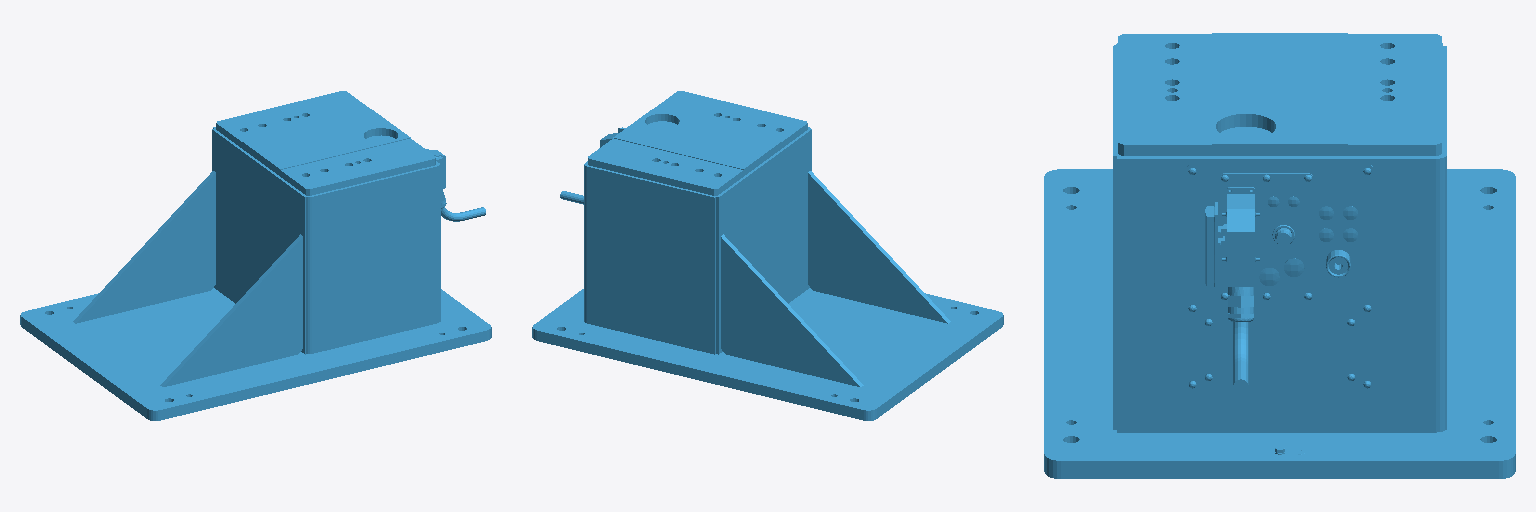
URDF robot description (Irbpa_750_D1000_H700_IRC5_rev02_CAD):
<?xml version="1.0" ?>
<robot name="Irbpa_750_D1000_H700_IRC5_rev02_CAD">

<link name="base_link">
  <inertial>
    <origin xyz="0.8178227923700941 0.046728801444920844 0.8721145690357031" rpy="0 0 0"/>
    <mass value="0.006752990496073456"/>
    <inertia ixx="0.000507" iyy="0.000462" izz="0.000256" ixy="-1.9e-05" iyz="0.000124" ixz="6.3e-05"/>
  </inertial>
  <visual>
    <origin xyz="0 0 0" rpy="0 0 0"/>
    <geometry>
      <mesh filename="meshes/base_link.stl" scale="0.001 0.001 0.001"/>
    </geometry>
  </visual>
  <collision>
    <origin xyz="0 0 0" rpy="0 0 0"/>
    <geometry>
      <mesh filename="meshes/base_link.stl" scale="0.001 0.001 0.001"/>
    </geometry>
  </collision>
</link>

<link name="Irbpa_750_D1000_H700_IRC5_rev02_base750A_CAD_1">
  <inertial>
    <origin xyz="0.1111376986085143 0.15965330927087412 -0.2811561945472616" rpy="0 0 0"/>
    <mass value="931.5476234514706"/>
    <inertia ixx="45.054451" iyy="55.446775" izz="56.062973" ixy="0.106209" iyz="0.034228" ixz="-7.833296"/>
  </inertial>
  <visual>
    <origin xyz="-0.776 0.16 -0.498" rpy="0 0 0"/>
    <geometry>
      <mesh filename="meshes/Irbpa_750_D1000_H700_IRC5_rev02_base750A_CAD_1.stl" scale="0.001 0.001 0.001"/>
    </geometry>
  </visual>
  <collision>
    <origin xyz="-0.776 0.16 -0.498" rpy="0 0 0"/>
    <geometry>
      <mesh filename="meshes/Irbpa_750_D1000_H700_IRC5_rev02_base750A_CAD_1.stl" scale="0.001 0.001 0.001"/>
    </geometry>
  </collision>
</link>

<link name="Irbpa_750_D1000_H700_IRC5_rev02_MTD750_CAD_1">
  <inertial>
    <origin xyz="-0.5359023182928626 -0.0033357651582613694 -0.3630446970410325" rpy="0 0 0"/>
    <mass value="511.1252334711674"/>
    <inertia ixx="22.821939" iyy="53.57062" izz="41.278051" ixy="0.038996" iyz="-0.339125" ixz="-19.039643"/>
  </inertial>
  <visual>
    <origin xyz="-0.722 0.0 -0.9" rpy="0 0 0"/>
    <geometry>
      <mesh filename="meshes/Irbpa_750_D1000_H700_IRC5_rev02_MTD750_CAD_1.stl" scale="0.001 0.001 0.001"/>
    </geometry>
  </visual>
  <collision>
    <origin xyz="-0.722 0.0 -0.9" rpy="0 0 0"/>
    <geometry>
      <mesh filename="meshes/Irbpa_750_D1000_H700_IRC5_rev02_MTD750_CAD_1.stl" scale="0.001 0.001 0.001"/>
    </geometry>
  </collision>
</link>

<link name="Irbpa_750_D1000_H700_IRC5_rev02_platter_d450_CAD_1">
  <inertial>
    <origin xyz="-0.0011124864300729666 -5.688668147784807e-15 0.04336786560053996" rpy="0 0 0"/>
    <mass value="21.25030383337227"/>
    <inertia ixx="0.228504" iyy="0.231342" izz="0.446816" ixy="0.0" iyz="-0.0" ixz="-0.000583"/>
  </inertial>
  <visual>
    <origin xyz="0.0 0.0 -0.638" rpy="0 0 0"/>
    <geometry>
      <mesh filename="meshes/Irbpa_750_D1000_H700_IRC5_rev02_platter_d450_CAD_1.stl" scale="0.001 0.001 0.001"/>
    </geometry>
  </visual>
  <collision>
    <origin xyz="0.0 0.0 -0.638" rpy="0 0 0"/>
    <geometry>
      <mesh filename="meshes/Irbpa_750_D1000_H700_IRC5_rev02_platter_d450_CAD_1.stl" scale="0.001 0.001 0.001"/>
    </geometry>
  </collision>
</link>

<joint name="Rigid_4" type="fixed">
  <origin xyz="0.776 -0.16 0.498" rpy="0 0 0"/>
  <parent link="base_link"/>
  <child link="Irbpa_750_D1000_H700_IRC5_rev02_base750A_CAD_1"/>
</joint>

<joint name="j1" type="continuous">
  <origin xyz="0.722 0.0 0.9" rpy="0 0 0"/>
  <parent link="base_link"/>
  <child link="Irbpa_750_D1000_H700_IRC5_rev02_MTD750_CAD_1"/>
  <axis xyz="-1.0 -0.0 0.0"/>
</joint>

<joint name="j2" type="continuous">
  <origin xyz="-0.722 0.0 -0.262" rpy="0 0 0"/>
  <parent link="Irbpa_750_D1000_H700_IRC5_rev02_MTD750_CAD_1"/>
  <child link="Irbpa_750_D1000_H700_IRC5_rev02_platter_d450_CAD_1"/>
  <axis xyz="-0.0 0.0 -1.0"/>
</joint>

</robot>

--- What the picture shows (computed from the rendered views, not written in the file) ---
3 views of the same robot in one strip: view 1: azimuth 30°, elevation 25°; view 2: azimuth 150°, elevation 25°; view 3: azimuth 270°, elevation 25° (orthographic).
Robot: Irbpa_750_D1000_H700_IRC5_rev02_CAD — 4 links, 3 joints (2 continuous, 1 fixed); root link base_link; default pose: all joints at 0.
Links seen in each view (by area): view 1: Irbpa_750_D1000_H700_IRC5_rev02_base750A_CAD_1; view 2: Irbpa_750_D1000_H700_IRC5_rev02_base750A_CAD_1; view 3: Irbpa_750_D1000_H700_IRC5_rev02_base750A_CAD_1.
Boxes of the visible links, x1=… form: Irbpa_750_D1000_H700_IRC5_rev02_base750A_CAD_1: x1=20, y1=91, x2=491, y2=420; Irbpa_750_D1000_H700_IRC5_rev02_base750A_CAD_1: x1=532, y1=91, x2=1003, y2=420; Irbpa_750_D1000_H700_IRC5_rev02_base750A_CAD_1: x1=1044, y1=33, x2=1515, y2=478.
Size in the robot's own frame: 1.16 by 0.7 by 0.5 metres.
1 mesh visuals loaded from 4 distinct referenced files (1 binary STL); not drawn: 3 (reference not matched to a file when rendering).